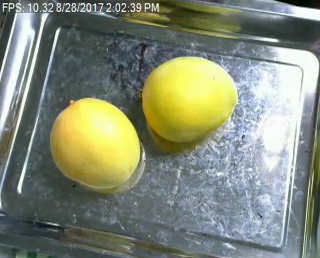Mango: (142, 55, 241, 140), (50, 97, 140, 188)
